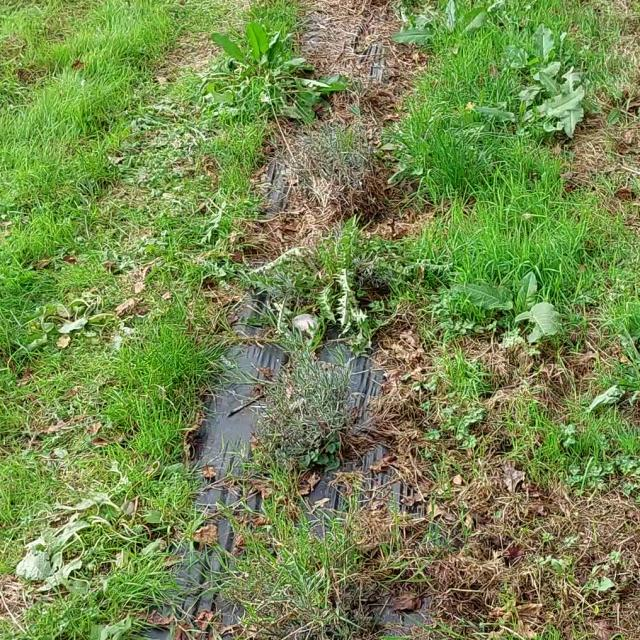organic waste: (0, 479, 174, 617), (203, 12, 312, 134), (29, 271, 140, 366), (454, 269, 578, 353), (512, 70, 606, 153), (396, 0, 515, 65), (510, 26, 590, 101)
